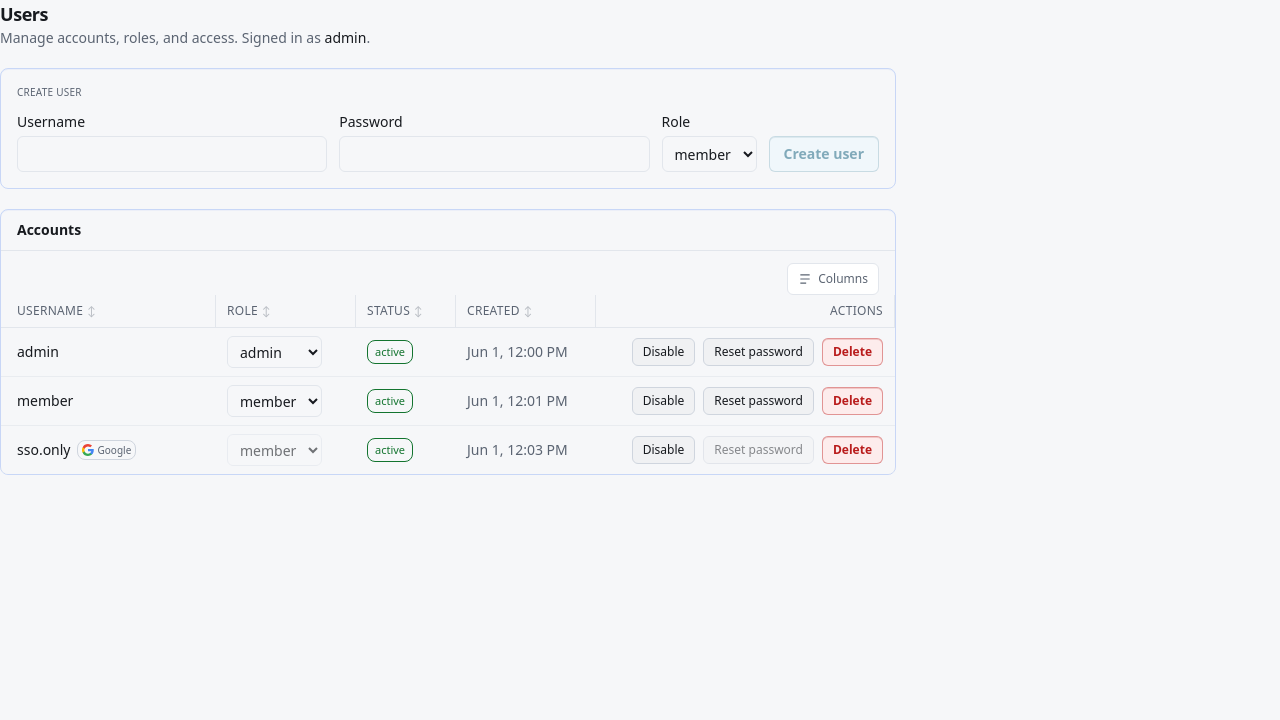
Test: AdminPage confirmations › leaves the role alone when the self-demotion is cancelled
The width and height of the screenshot is (1280, 720).
Select "admin" in the dropdown named "Role for member" at x=274, y=401, box [227,385,322,417]
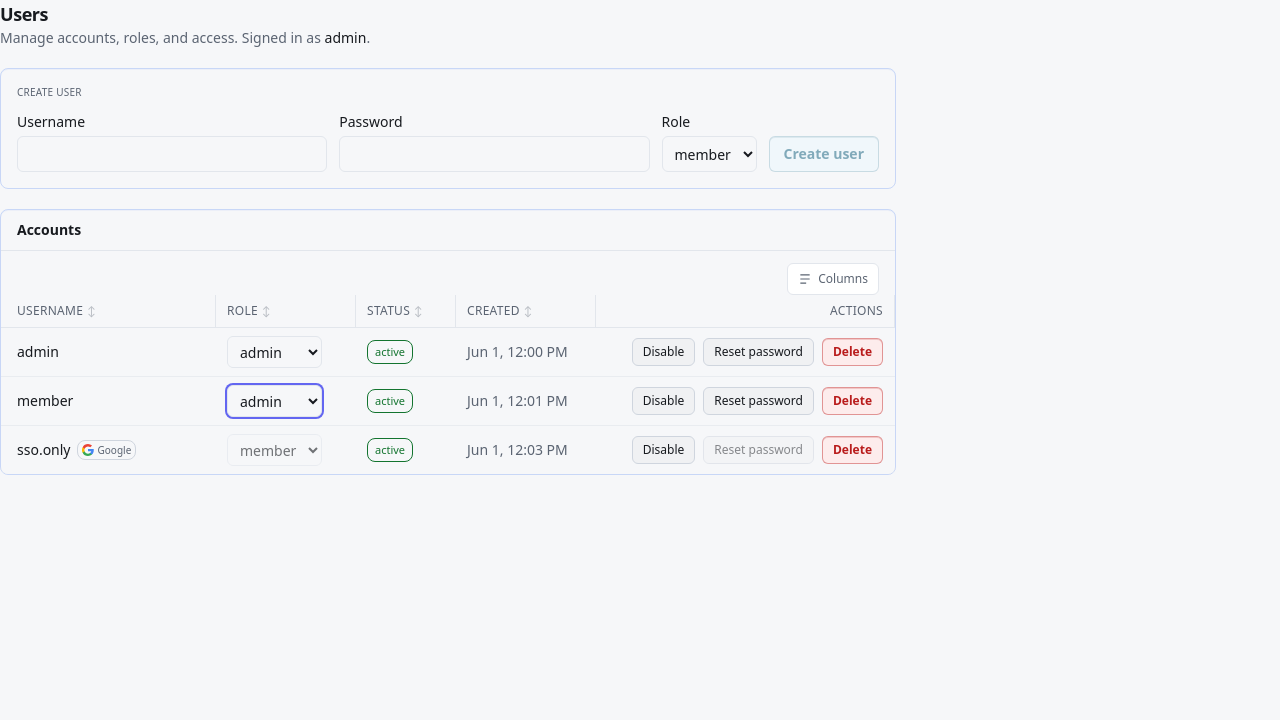
Select "viewer" in the dropdown named "Role for admin" at x=274, y=352, box [227,336,322,368]
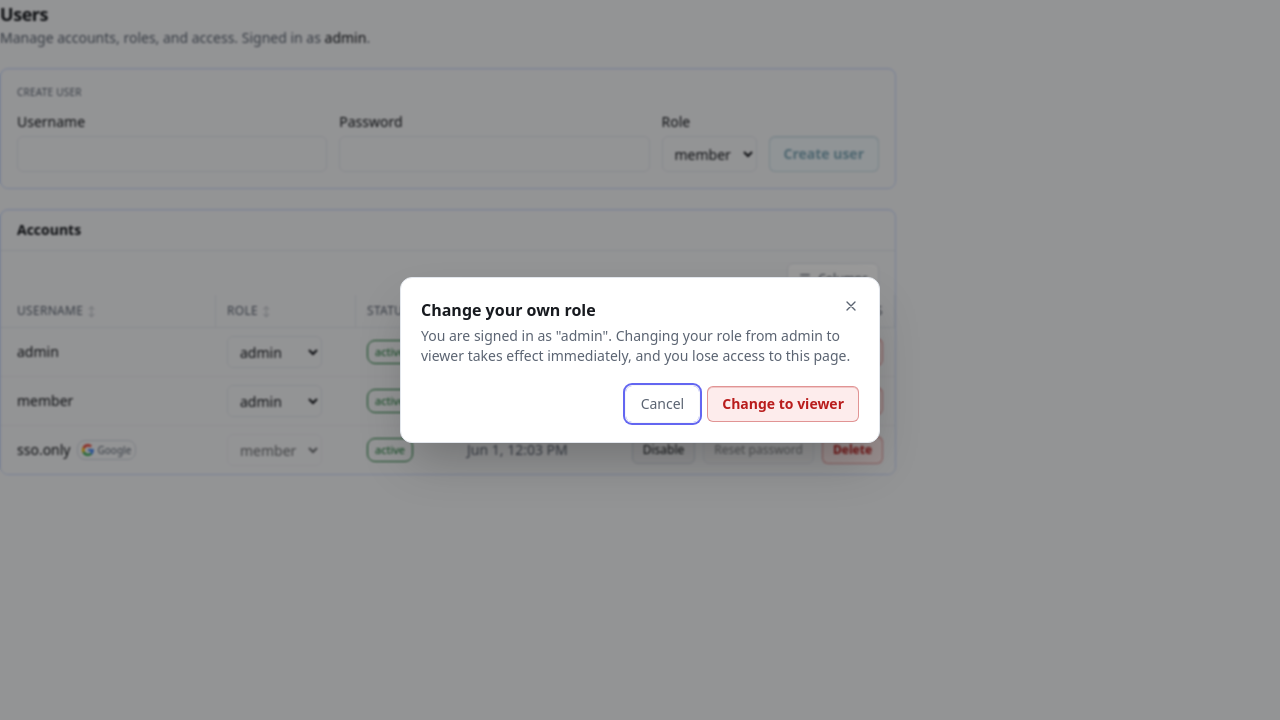
Click the button "Cancel" at x=662, y=404, box [626,386,699,422]
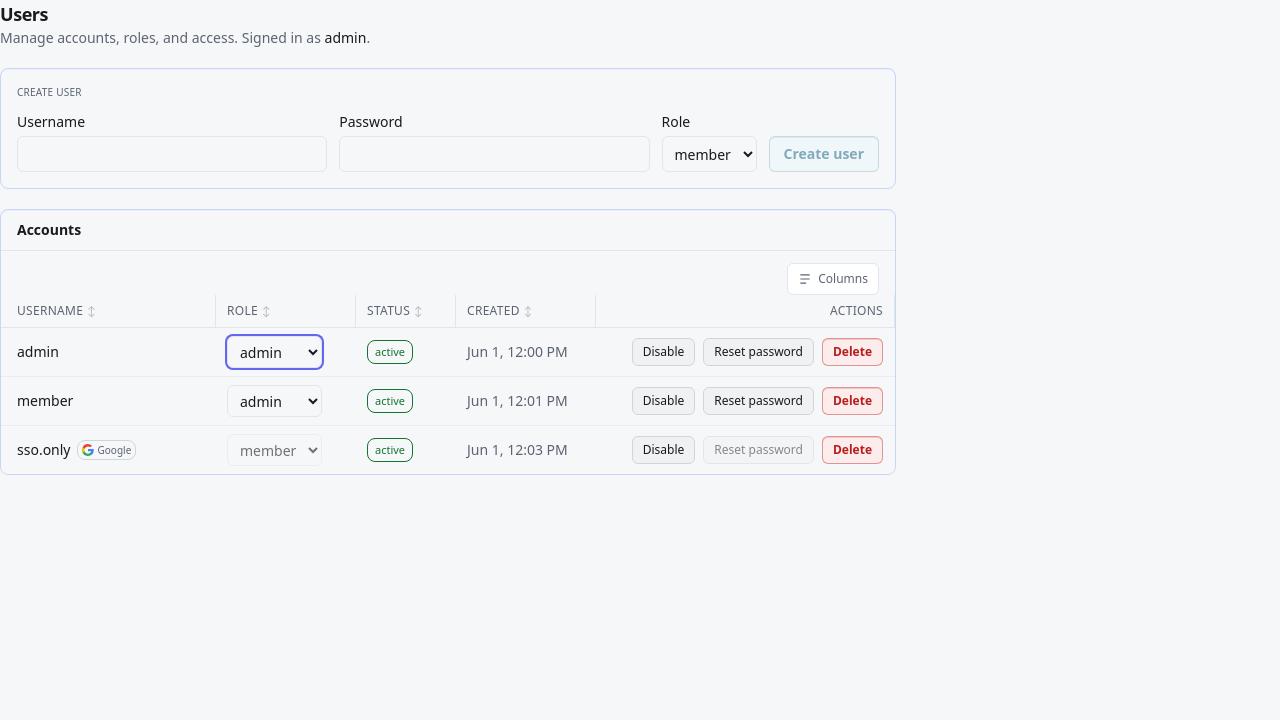
Check: the dialog is gone
